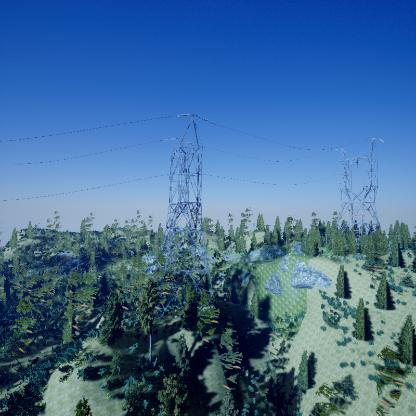tower: (154, 108, 220, 302), (332, 136, 386, 264)
